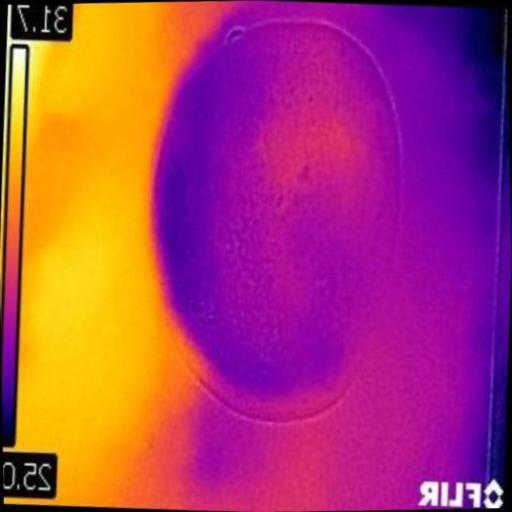alphanso: (154, 21, 401, 419)
